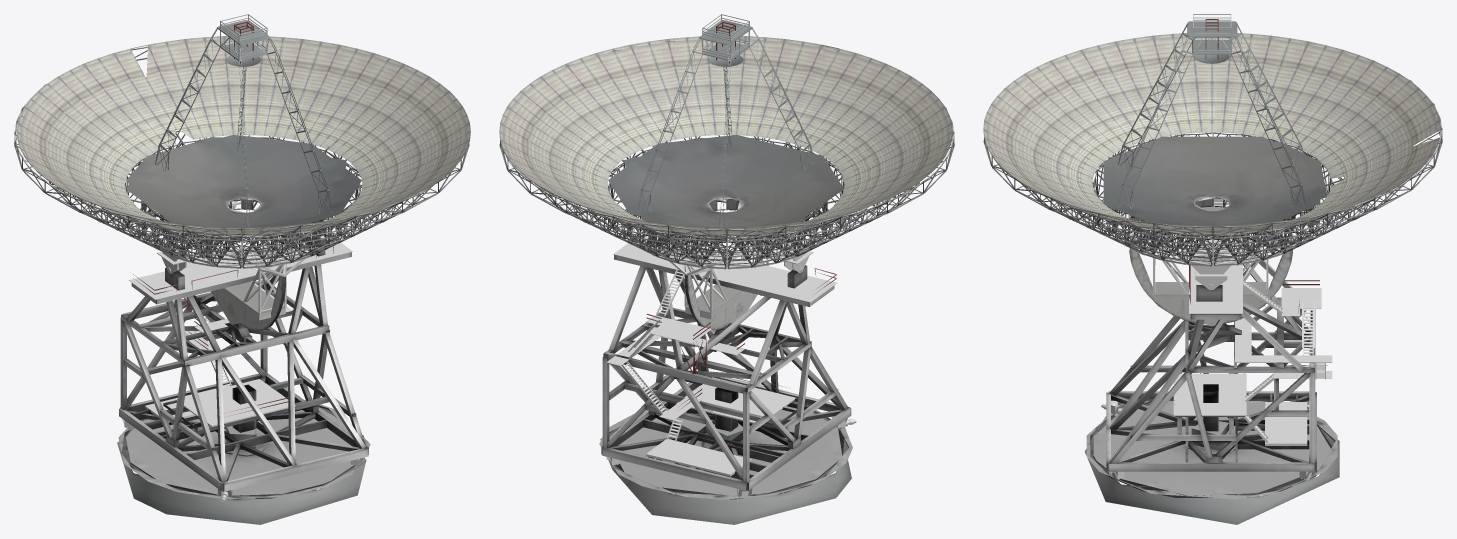
Rendered from space-dsn-34m.glb.
The picture shows the model from 3 angles, left to right: view 1: azimuth 30°, elevation 25°; view 2: azimuth 150°, elevation 25°; view 3: azimuth 270°, elevation 25°; orthographic projection.
Visible parts, largest first — view 1: dish, azimuth, truss_dish, base; view 2: dish, azimuth, truss_dish, base; view 3: dish, azimuth, truss_dish, base.
Boxes of the visible parts, <box> form: dish: <box>17,36,470,235</box>; azimuth: <box>117,14,368,524</box>; truss_dish: <box>14,46,469,268</box>; base: <box>118,400,370,499</box>; dish: <box>499,36,952,235</box>; azimuth: <box>600,14,856,524</box>; truss_dish: <box>499,41,954,269</box>; base: <box>599,400,852,499</box>; dish: <box>983,33,1440,233</box>; azimuth: <box>1084,14,1339,524</box>; truss_dish: <box>983,60,1442,266</box>; base: <box>1086,401,1337,499</box>.
Bounding box in the file's own units: 34.02 × 36.79 × 33.97.
Materials: 6 (5 with a texture image).
